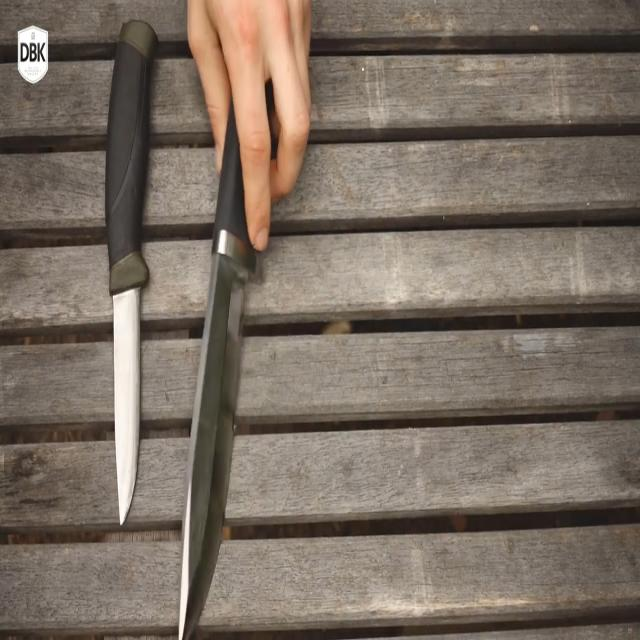knife: (179, 128, 261, 640), (97, 13, 165, 543)
